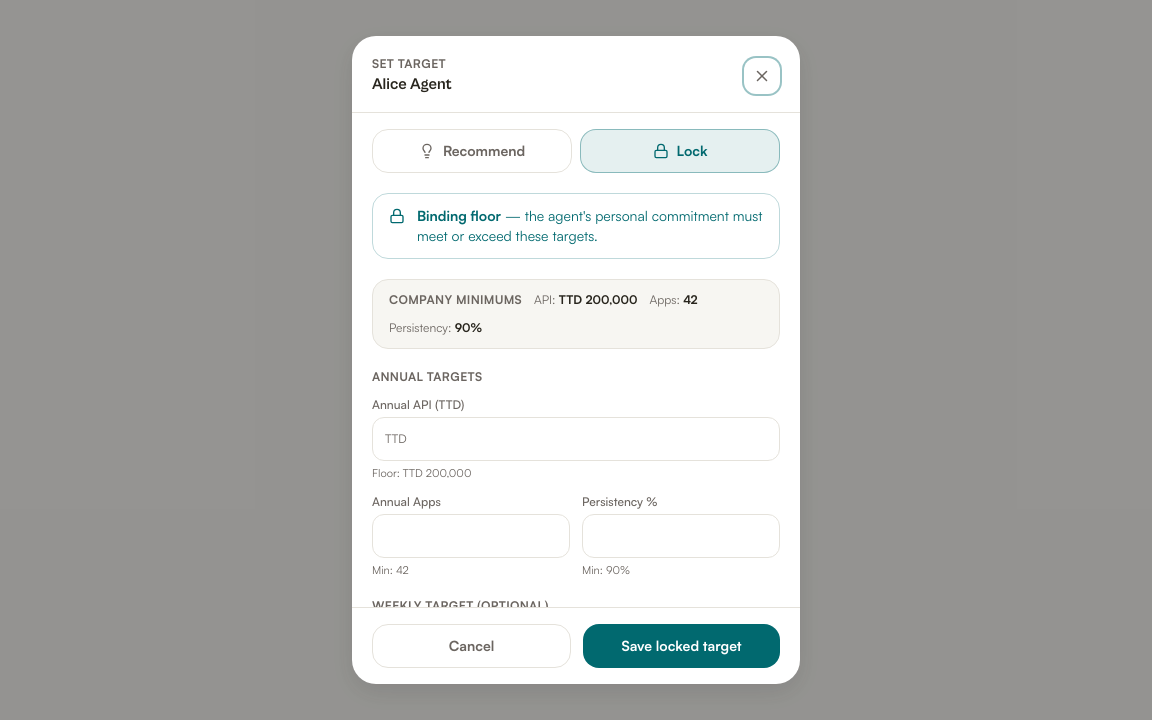
Test: RecommendLockDrawer — toggle › switches from lock to recommend via toggle
Expected: the text "Binding floor" is shown, [417,207,501,224]
What coordinates should you click on to do the following:
click the button "Recommend"
I would click on:
 (472, 151)
Its box is [372,129,572,173].
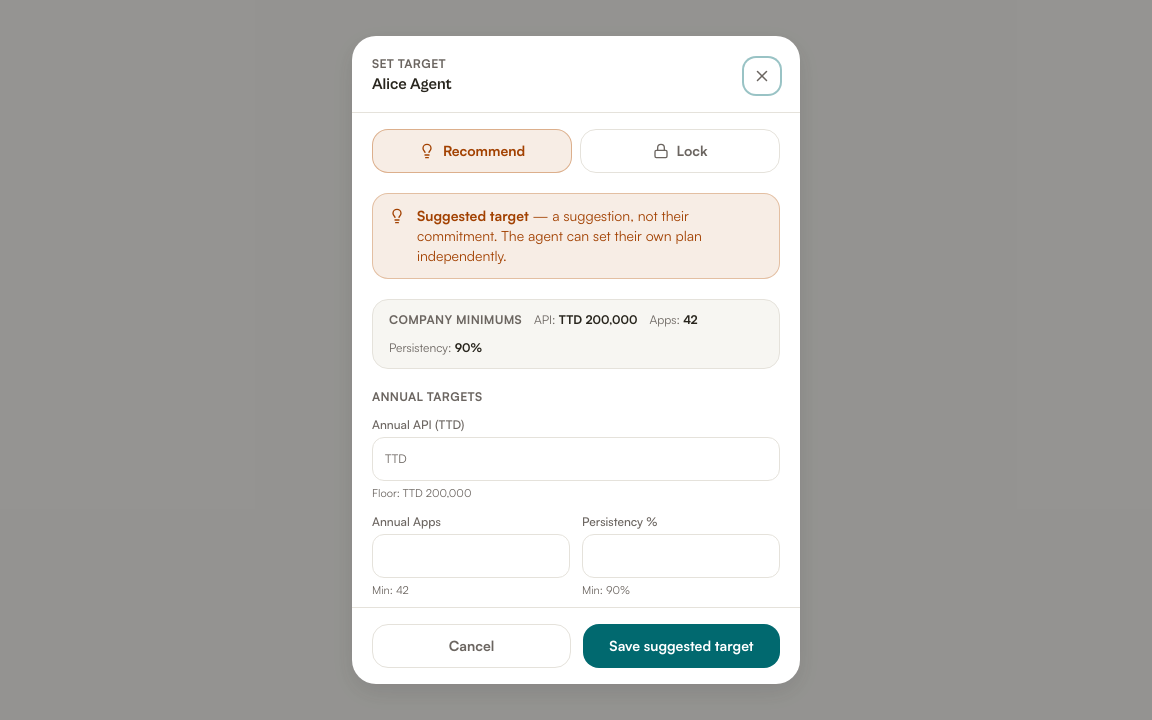
Result: the text "a suggestion, not their commitment" is shown at [417,207,702,264]
